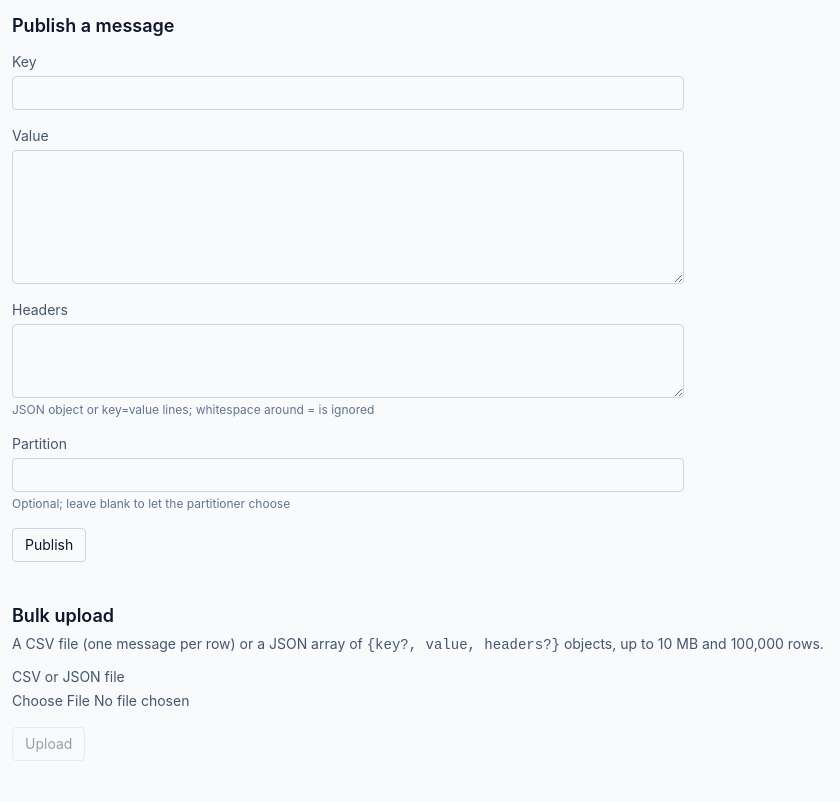
Test: single publish › needs a value before it sends anything
Click the button "Publish". click: x=49, y=545
box: x1=12 y1=528 x2=86 y2=562
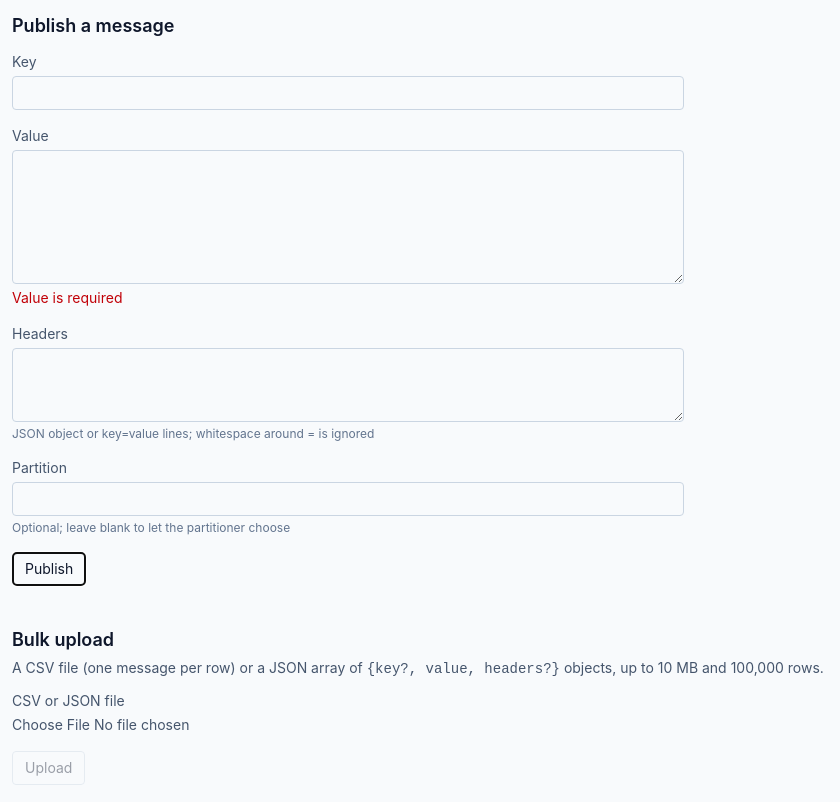
Expected: the text "Value is required" is shown, x1=12 y1=289 x2=122 y2=306
